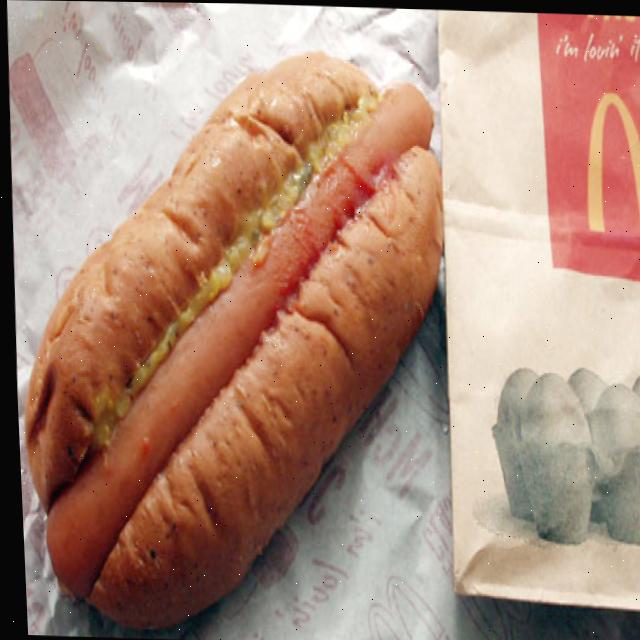汉堡快餐: (5, 37, 456, 640)
